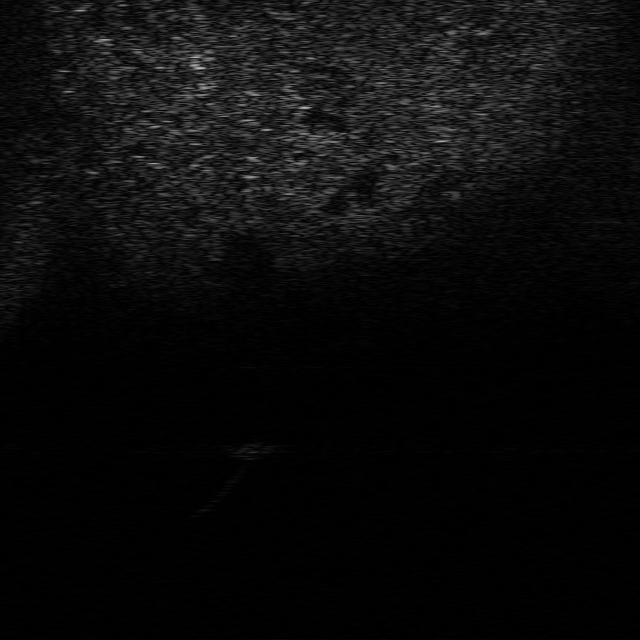cube: (222, 436, 272, 465)
